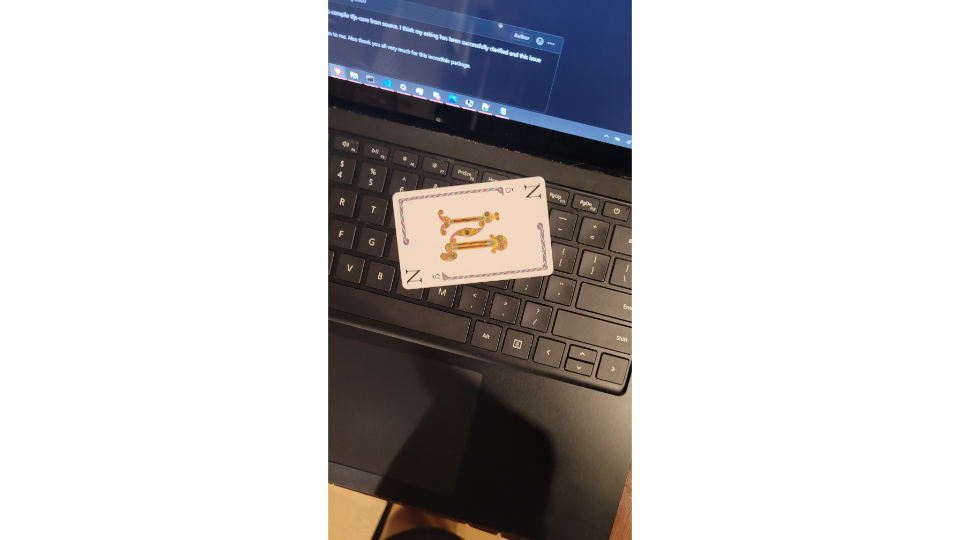N: (390, 174, 557, 290)
